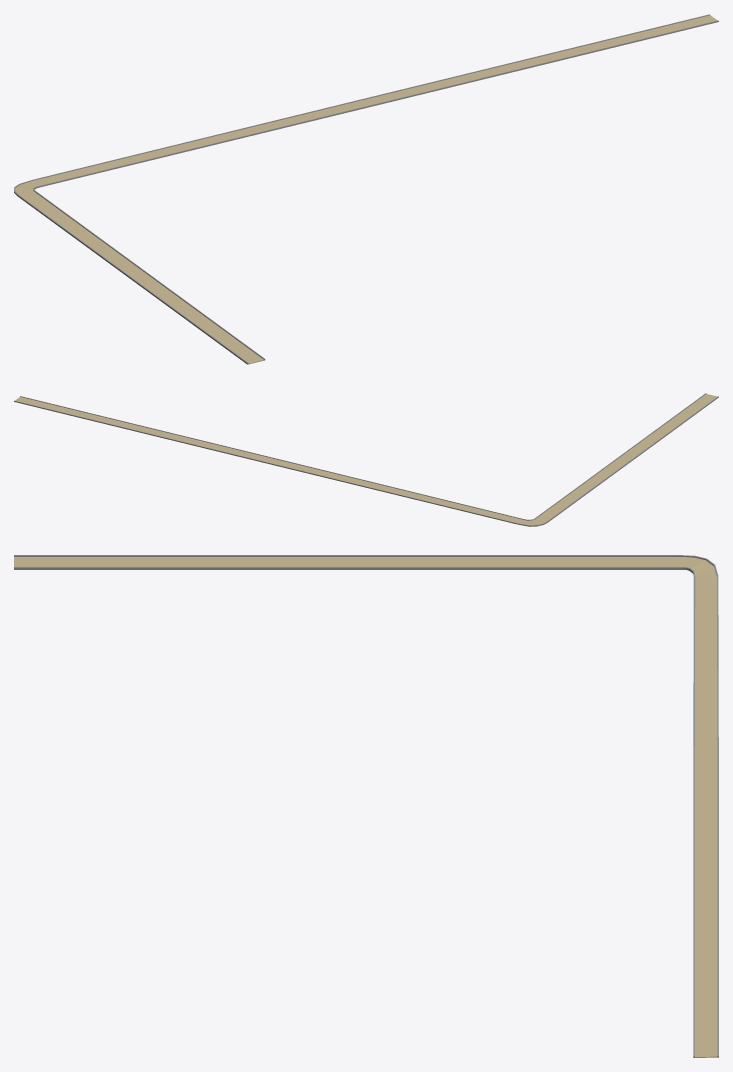
File: Sidewalk_2.gltf
The picture shows the model from 3 angles, top to bottom: view 1: azimuth 30°, elevation 25°; view 2: azimuth 150°, elevation 25°; view 3: azimuth 270°, elevation 25°; orthographic projection. The views are drawn at different scales.
Visible parts, largest first — view 1: sidewalk; view 2: sidewalk; view 3: sidewalk.
Boxes of the visible parts, x1,y1,x2,y2 form: sidewalk: [14, 14, 718, 364]; sidewalk: [14, 393, 718, 526]; sidewalk: [14, 555, 718, 1057].
Bounding box in the file's own units: 13.02 × 0.0342 × 7.76.
Materials: 1 (1 with a texture image).
